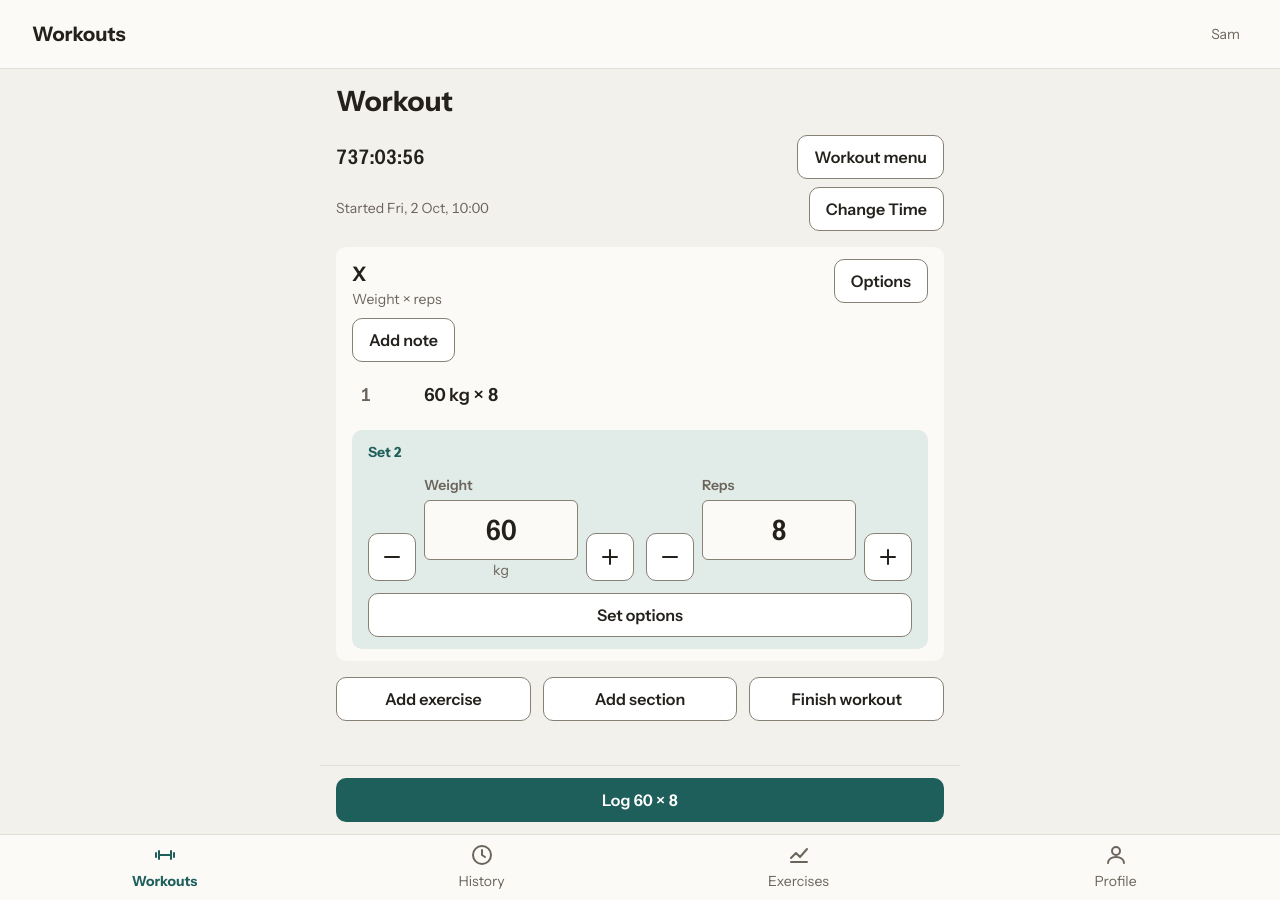
Test case: 17.1 AC2 — an edit never clears a stored RPE, and a fresh log carries none › a fresh log from the entry row sends no rpe key
Expected: the heading "Workout" is shown, [336,84,453,118]
// The draft is copy-forward seeded from the logged set, so replace its values.
Replace the text in the field labelled "Weight" with "65" at x=501, y=530, box [424,500,578,560]
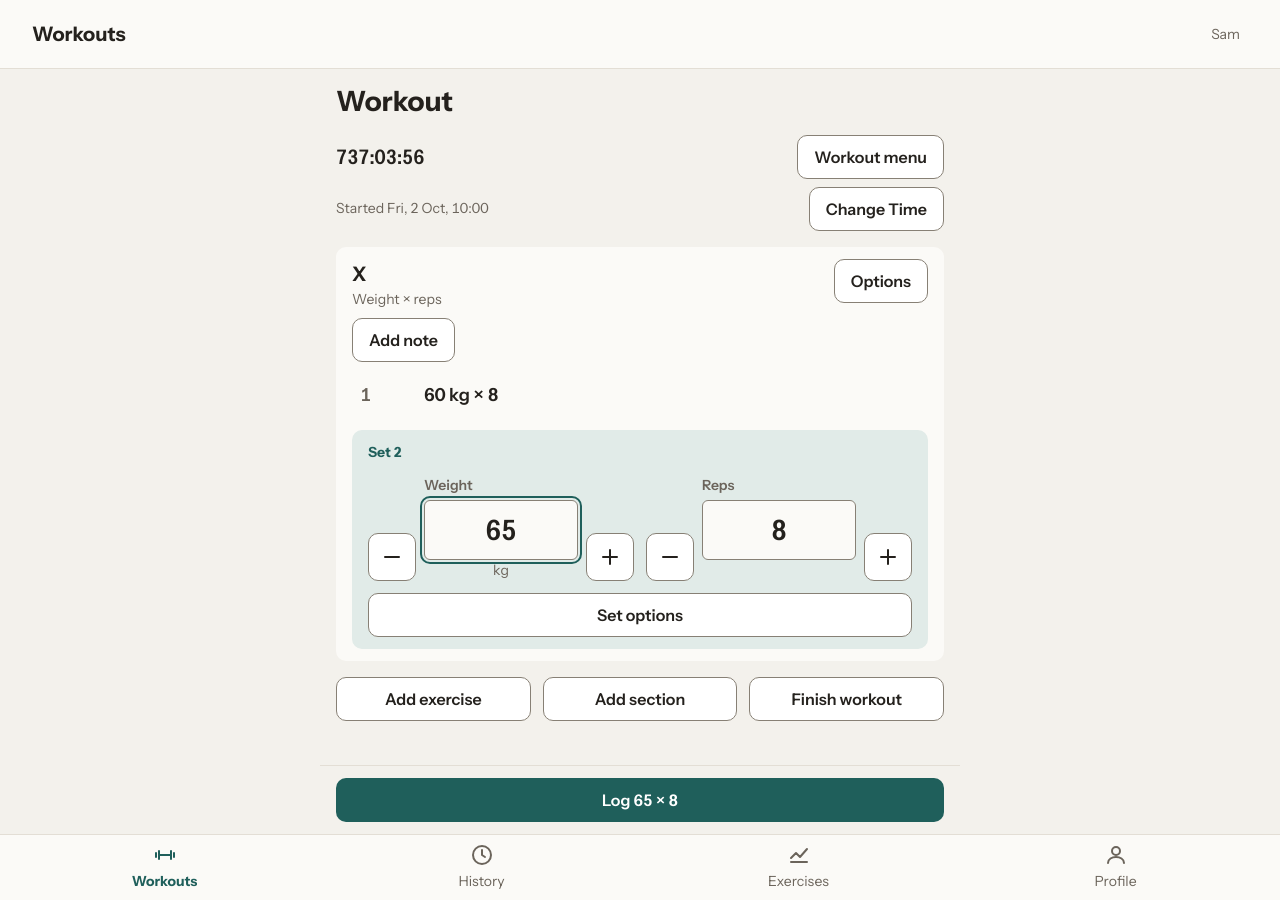
Replace the text in the field labelled "Reps" with "5" at x=779, y=530, box [702,500,856,560]
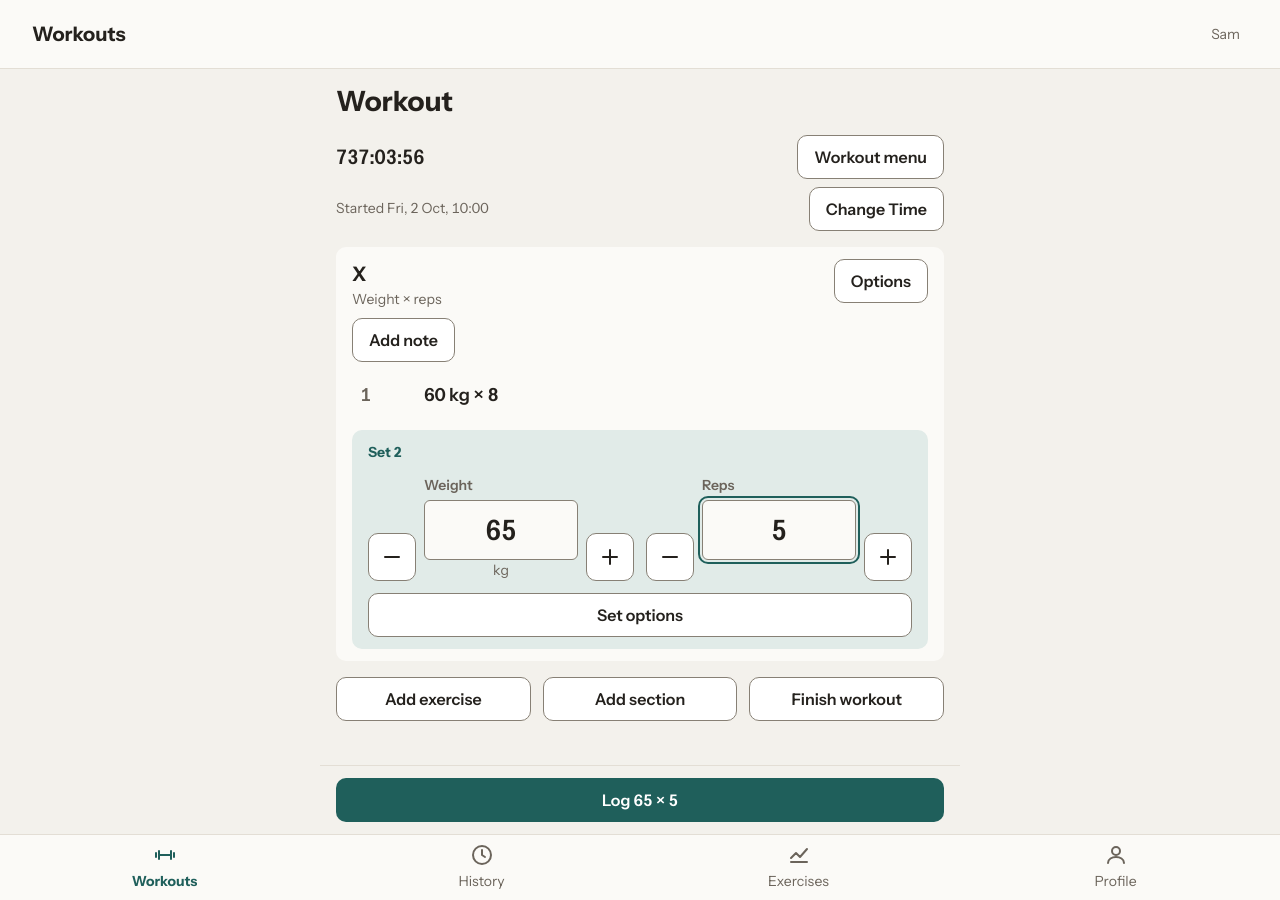
Click the button "Log 65 × 5" at x=640, y=800, box [336,778,944,822]
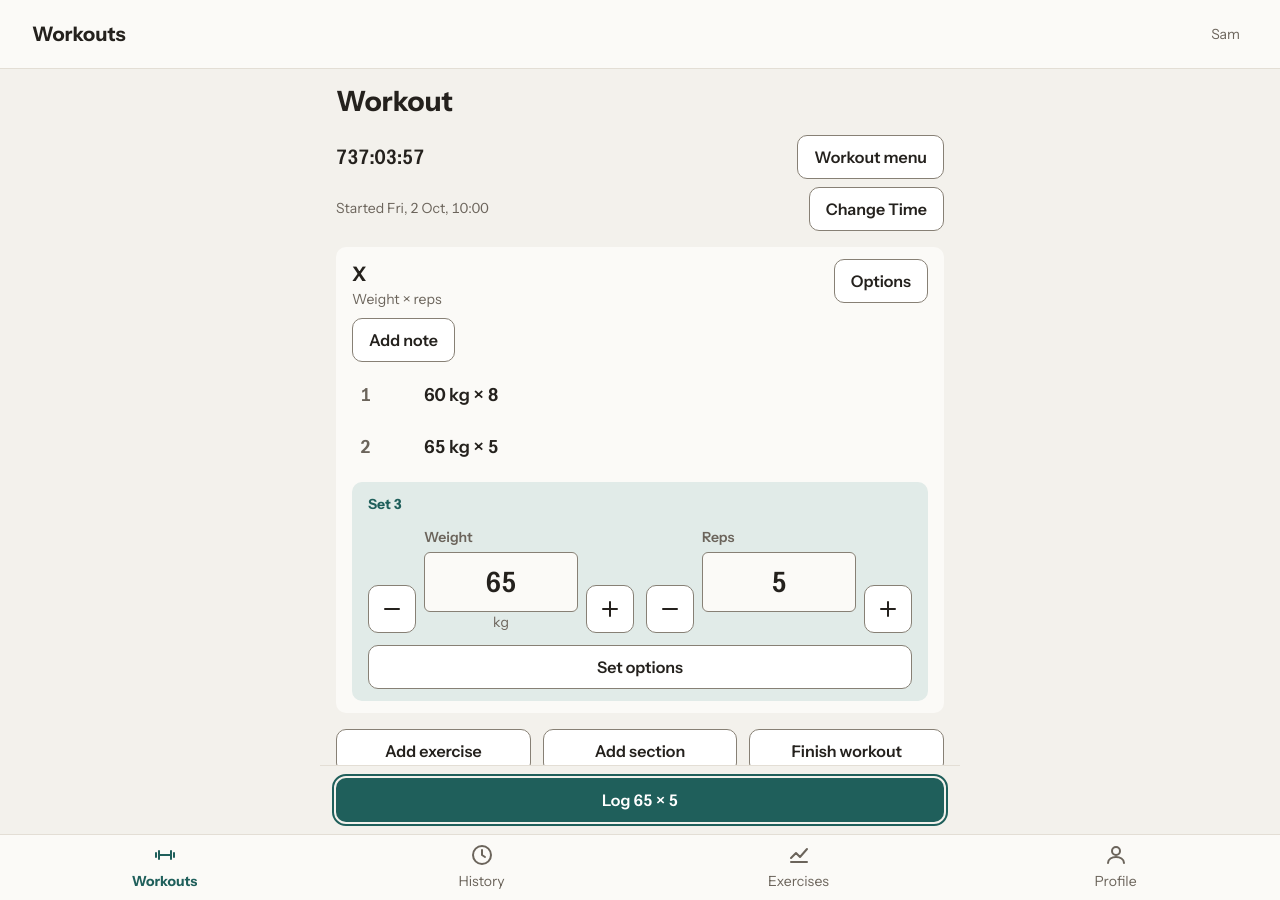
Expected: the text "65 kg × 5" is shown, [424,434,498,461]
